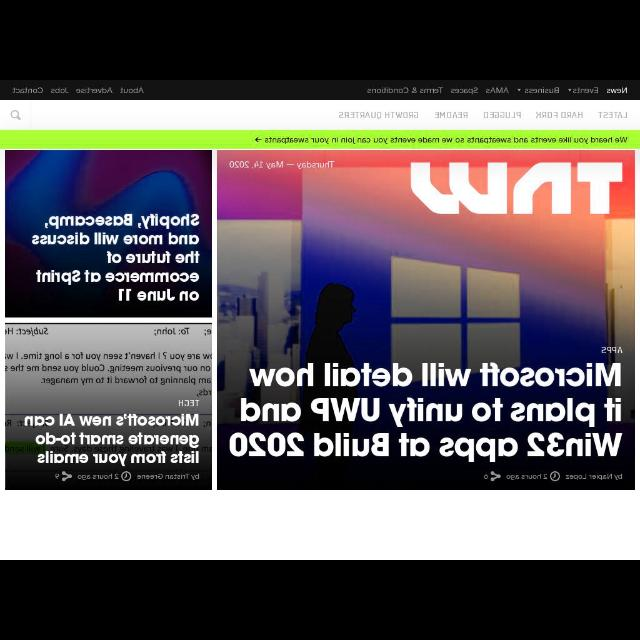button: (3, 102, 31, 128)
icon: (8, 108, 22, 120), (254, 136, 262, 144), (568, 88, 572, 92), (516, 88, 520, 92)
image: (216, 150, 634, 490), (4, 324, 212, 491), (6, 150, 212, 316)
spinner: (515, 84, 561, 98), (567, 84, 599, 96)
text: (264, 134, 630, 144), (338, 110, 420, 120), (366, 86, 444, 94), (482, 108, 522, 122), (594, 108, 628, 122), (536, 111, 582, 121), (434, 107, 470, 119), (74, 85, 112, 95), (12, 86, 44, 95), (485, 84, 511, 94), (450, 86, 478, 94), (573, 87, 599, 95), (118, 86, 144, 94), (524, 88, 558, 94), (606, 86, 628, 94), (51, 86, 69, 95)
toolbar: (2, 101, 640, 129), (1, 80, 639, 100)
